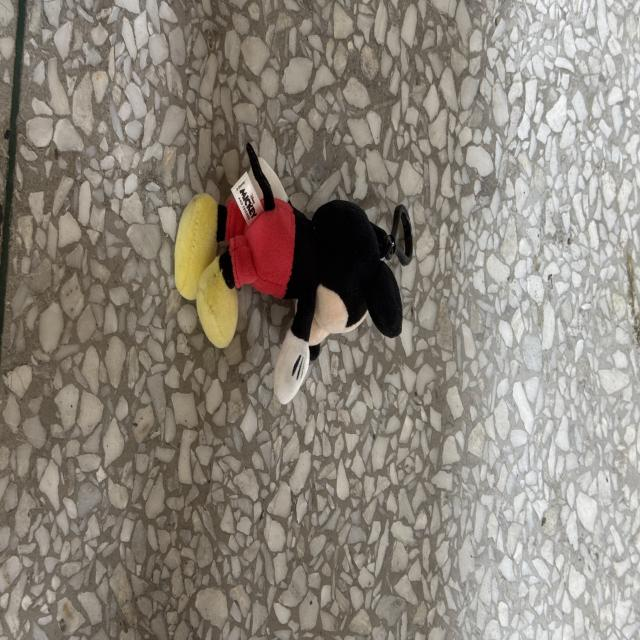mickey: (175, 144, 412, 403)
